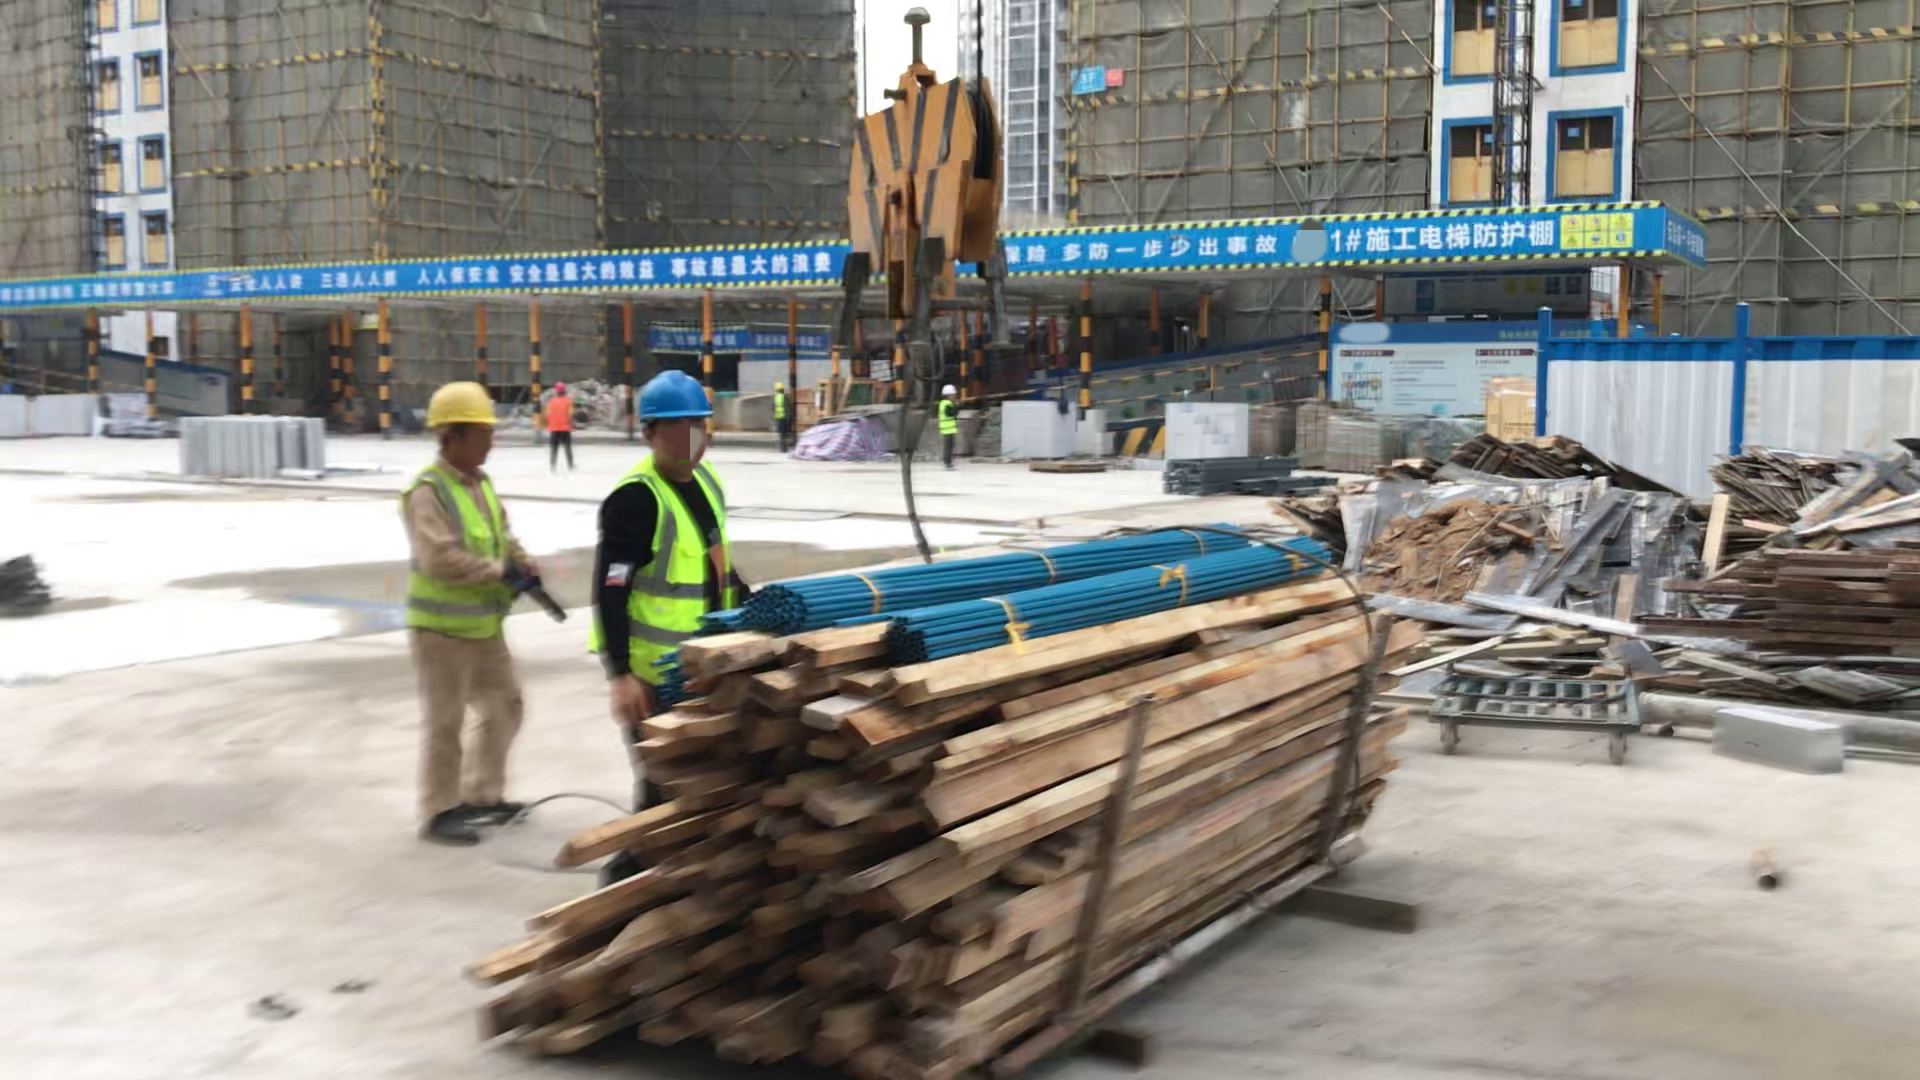board: (1304, 446, 1713, 681), (1713, 415, 1920, 660)
brick: (1142, 391, 1419, 474), (1700, 695, 1856, 801), (1, 384, 154, 451), (990, 396, 1127, 461)
fence: (1017, 350, 1325, 407)
helmet: (409, 364, 519, 451), (629, 368, 732, 443), (939, 377, 966, 407), (550, 374, 573, 399), (770, 376, 789, 390)
hook: (784, 3, 1077, 374)
person: (585, 357, 770, 849), (389, 365, 571, 850), (932, 377, 978, 491), (544, 376, 590, 481), (758, 372, 804, 464)
slogan: (1149, 196, 1683, 296), (549, 225, 1156, 310), (1, 258, 567, 318), (1322, 326, 1544, 415), (634, 315, 834, 361), (1633, 203, 1722, 272), (1064, 57, 1141, 119)
vest: (597, 461, 771, 692), (397, 458, 530, 649), (543, 395, 578, 438), (932, 399, 959, 440), (768, 390, 790, 422)
wood: (435, 515, 1458, 1080), (1683, 526, 1920, 709), (1248, 404, 1390, 470)
